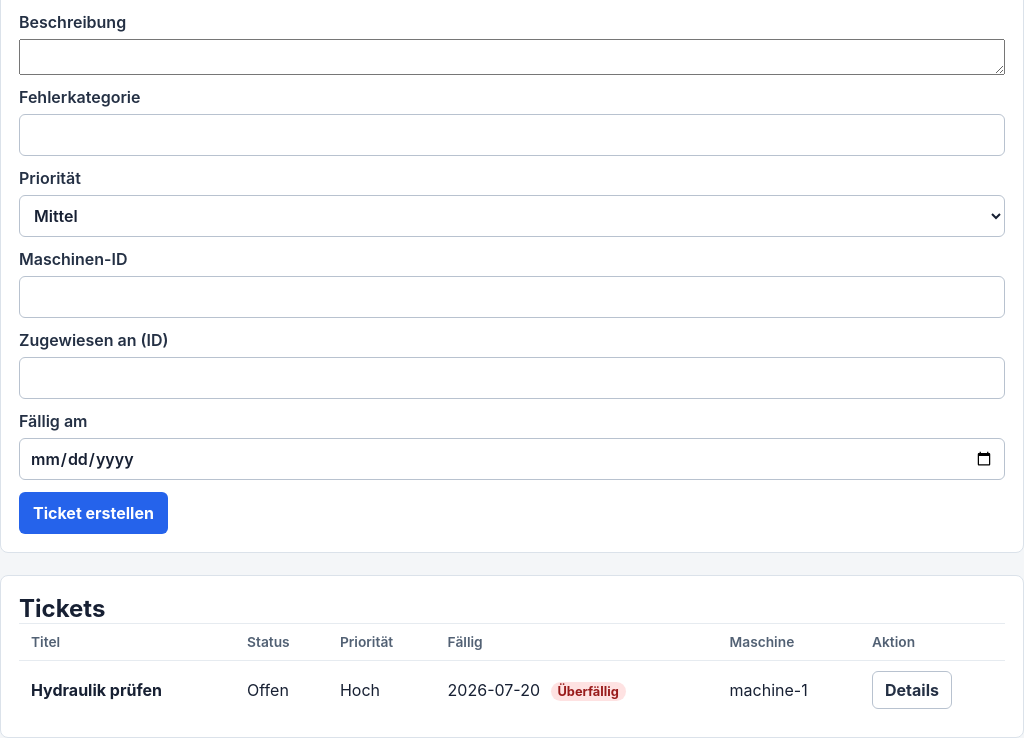
Test: MaintenancePage › renders ticket status, computed overdue badge, and detail comments
(page scrolled)
Expected: the text "Überfällig" is shown, 550,682 -> 626,701
Step 1. Click the button "Details" → (912, 690), box 872,671 -> 952,709
(page scrolled)
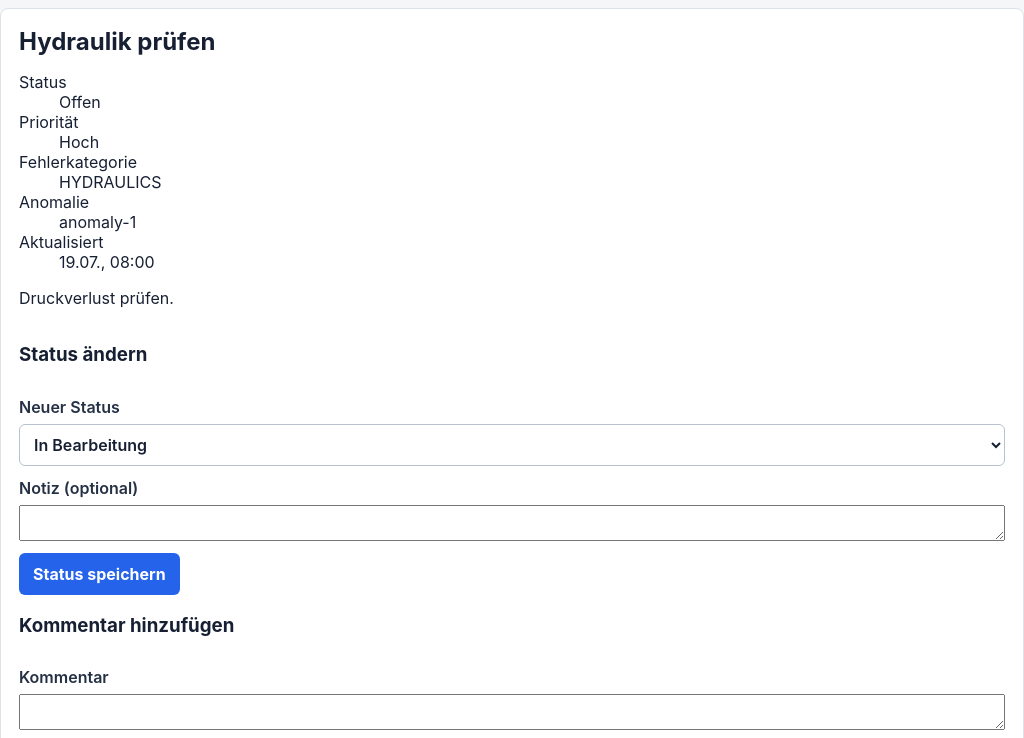
Expected: the heading "Status ändern" is shown, 19,343 -> 147,366
